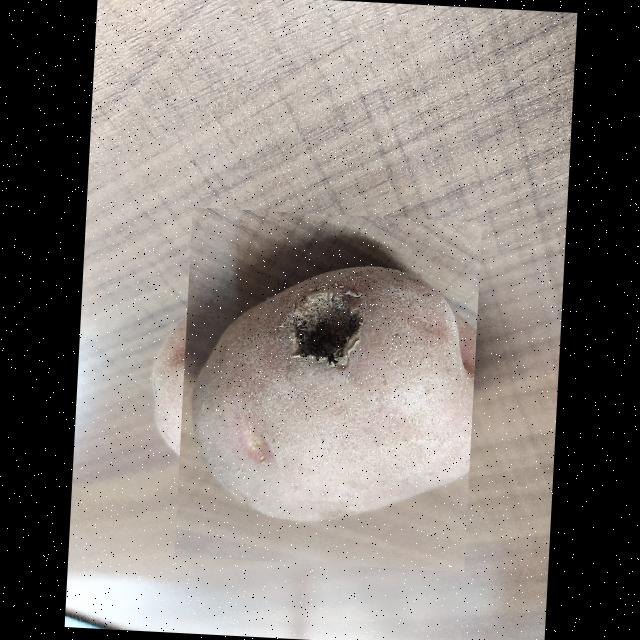Damaged potato: (174, 207, 482, 572)
